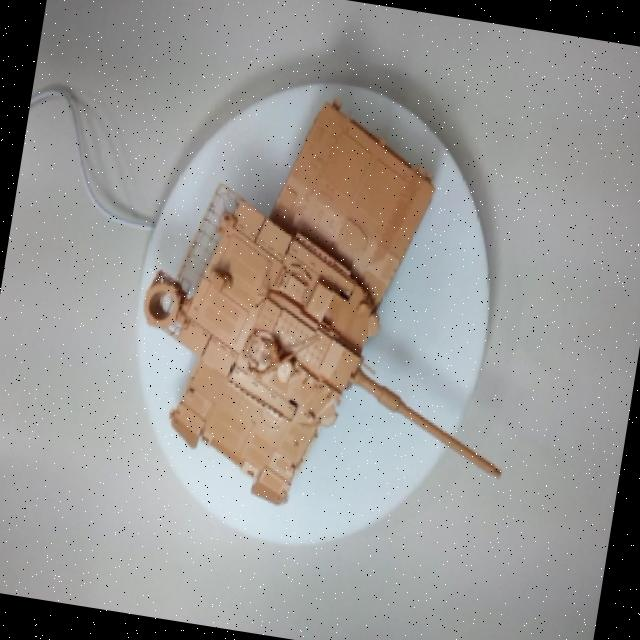korea tank: (114, 84, 598, 576)
